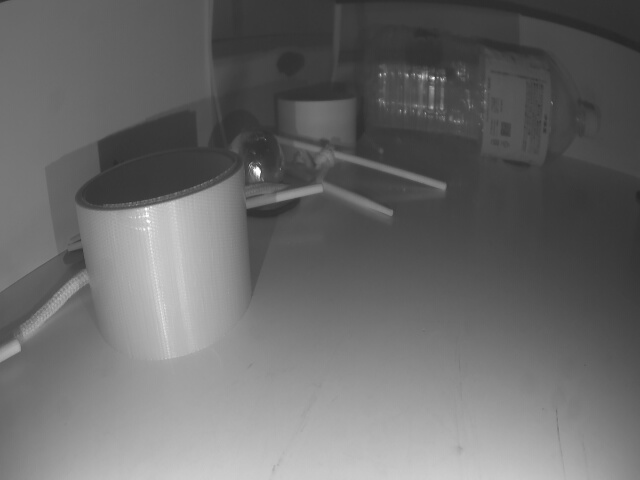Live: (231, 128, 281, 185)
